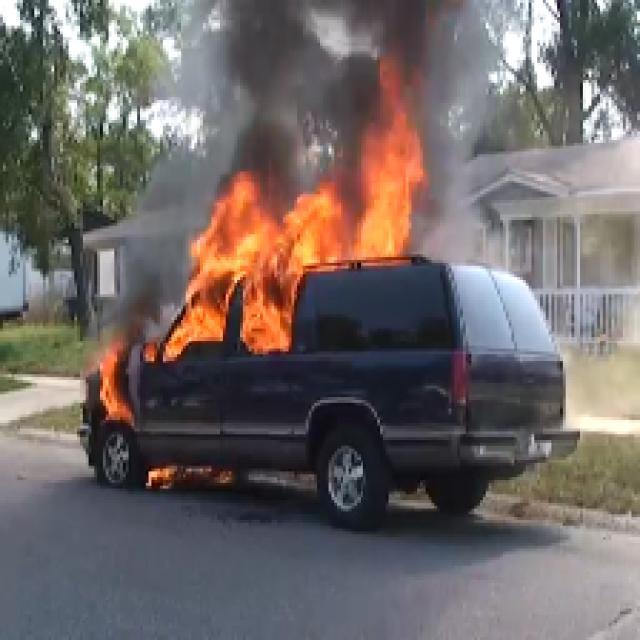Fire: (177, 185, 413, 348), (178, 0, 507, 110), (358, 116, 427, 182), (94, 346, 128, 418)
